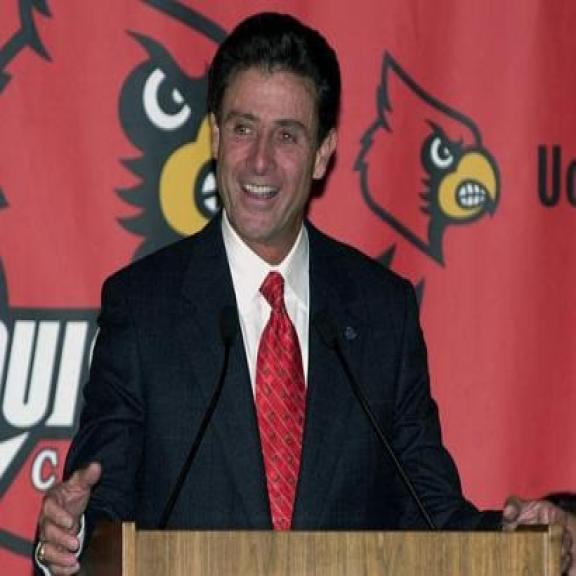face: (208, 68, 333, 238)
